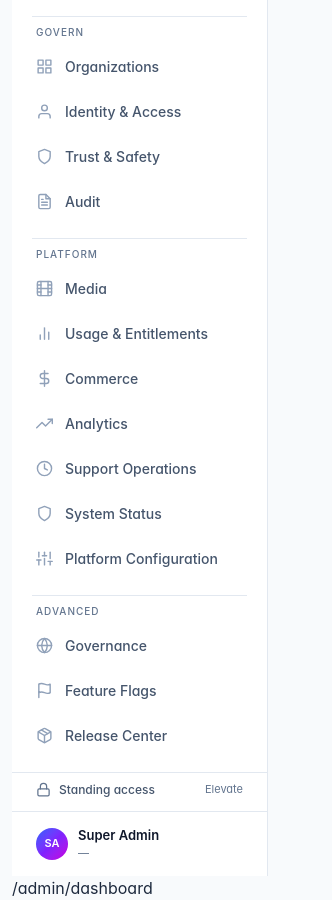
Test: Admin rail — the account control › Profile goes where the topbar's Profile goes, and closes the drawer
(page scrolled)
Click the button with aria-label "Account menu": (140, 844) [24,818,255,870]
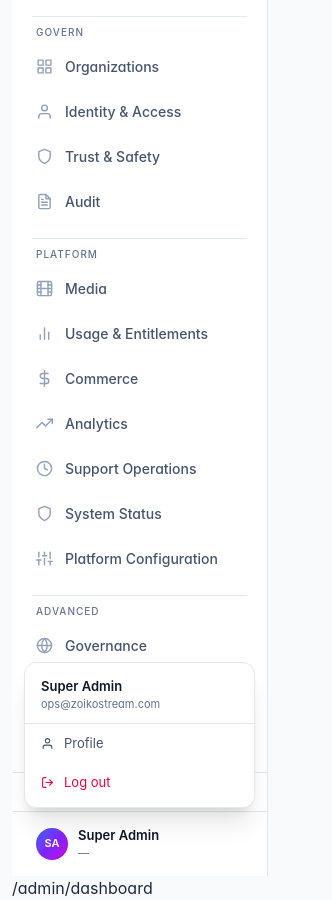
Click the menu item "Profile": (72, 742) [41,734,104,750]
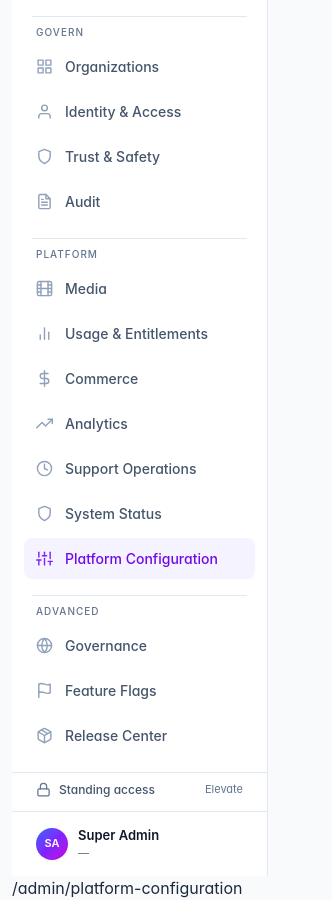
Now the text with test id "where" reads "/admin/platform-configuration", box [12,878,242,898]
Now the menu is gone
